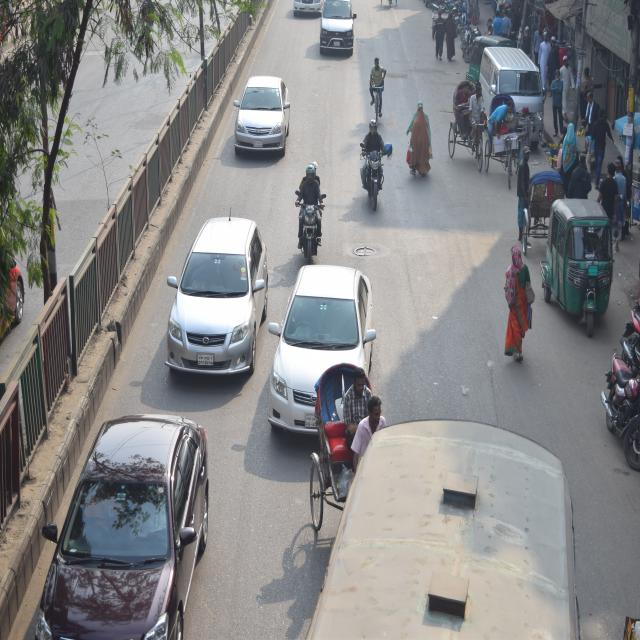bus: (319, 406, 591, 640)
car: (32, 407, 199, 640), (161, 206, 262, 405), (268, 260, 366, 457), (239, 62, 298, 169), (322, 6, 362, 54)
microbus: (470, 34, 556, 169)
motorbike: (292, 142, 330, 262), (354, 117, 389, 222)
